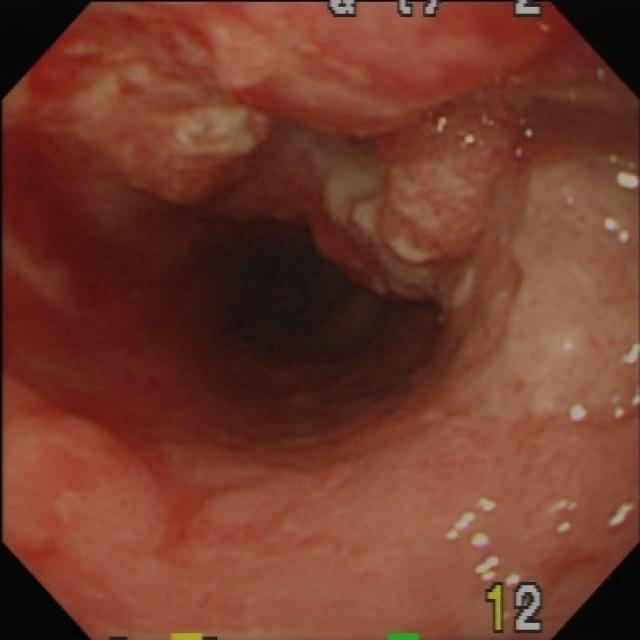A: (19, 405, 184, 564)
B: (11, 30, 280, 215), (298, 105, 536, 304), (204, 3, 554, 138), (471, 151, 640, 405)
C: (6, 140, 187, 460), (31, 13, 212, 105)
E: (183, 223, 380, 388)
S: (485, 581, 547, 636), (325, 3, 545, 18)
U: (446, 496, 522, 586), (606, 154, 640, 195), (548, 499, 580, 537), (607, 499, 637, 530), (603, 217, 633, 242), (569, 400, 589, 425), (437, 112, 452, 136), (465, 131, 479, 148), (522, 125, 536, 142)
